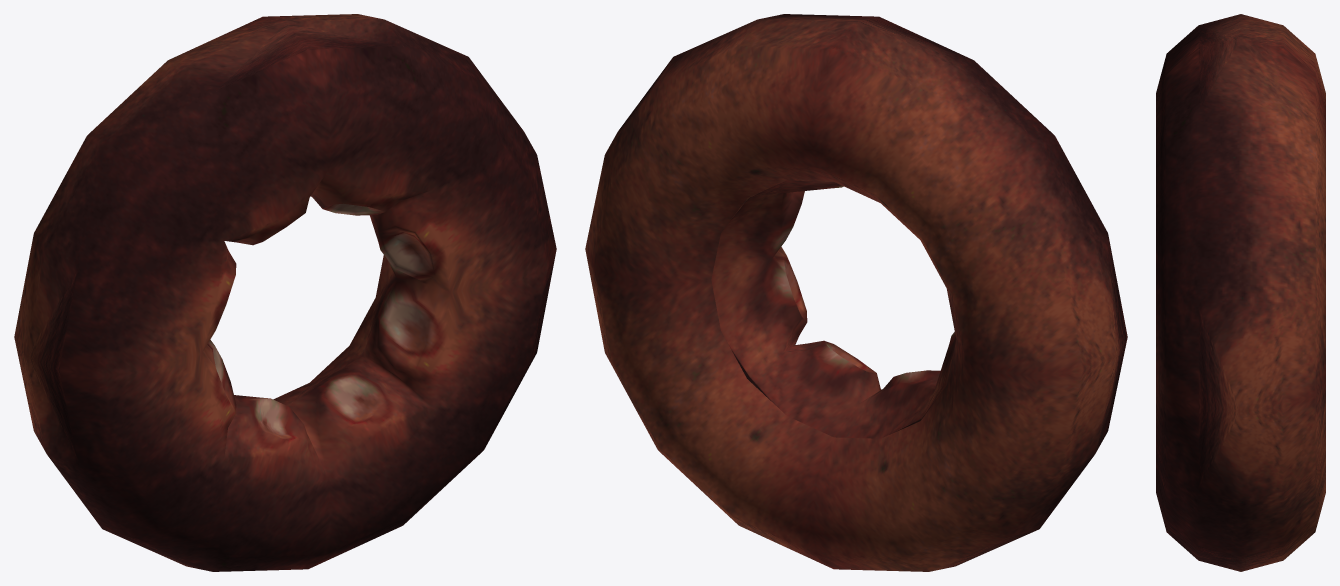
Rendered from zy_noani2.fbx.
The picture shows the model from 3 angles, left to right: view 1: azimuth 30°, elevation 25°; view 2: azimuth 150°, elevation 25°; view 3: azimuth 270°, elevation 25°; orthographic projection. The views are drawn at different scales.
Parts seen in each view (by area): view 1: zy_noani2; view 2: zy_noani2; view 3: zy_noani2.
Part boxes in pixels (bbox=[...]): zy_noani2: bbox=[14, 14, 556, 571]; zy_noani2: bbox=[585, 14, 1127, 571]; zy_noani2: bbox=[1156, 14, 1325, 571].
Size of the model in its own units: 793 by 792 by 240.
